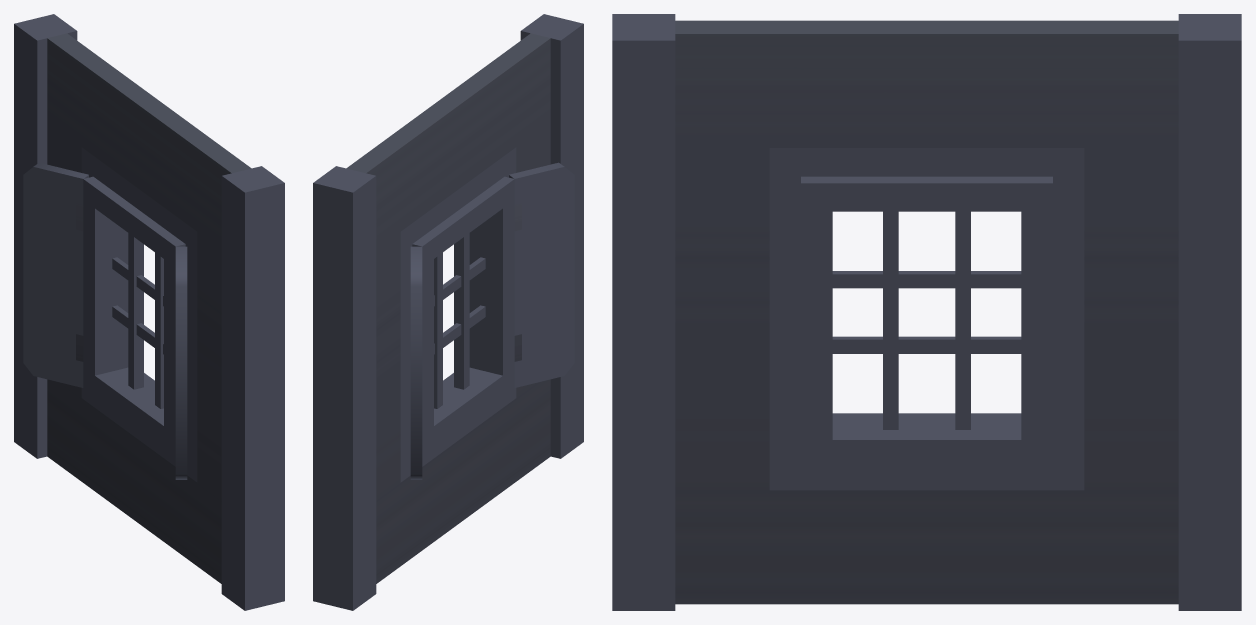
The model's file is wall-window-shutters.glb.
3 views of the same model, side by side, from view 1: azimuth 30°, elevation 25°; view 2: azimuth 150°, elevation 25°; view 3: azimuth 270°, elevation 25° (orthographic). The views are drawn at different scales.
Visible parts, largest first — view 1: wall-window-shutters; view 2: wall-window-shutters; view 3: wall-window-shutters.
Boxes of the visible parts, x1,y1,x2,y2 form: wall-window-shutters: (14,14,284,610); wall-window-shutters: (313,14,583,610); wall-window-shutters: (612,14,1241,610).
Size of the model in its own units: 0.175 by 1 by 1.
1 material, 1 textured.
